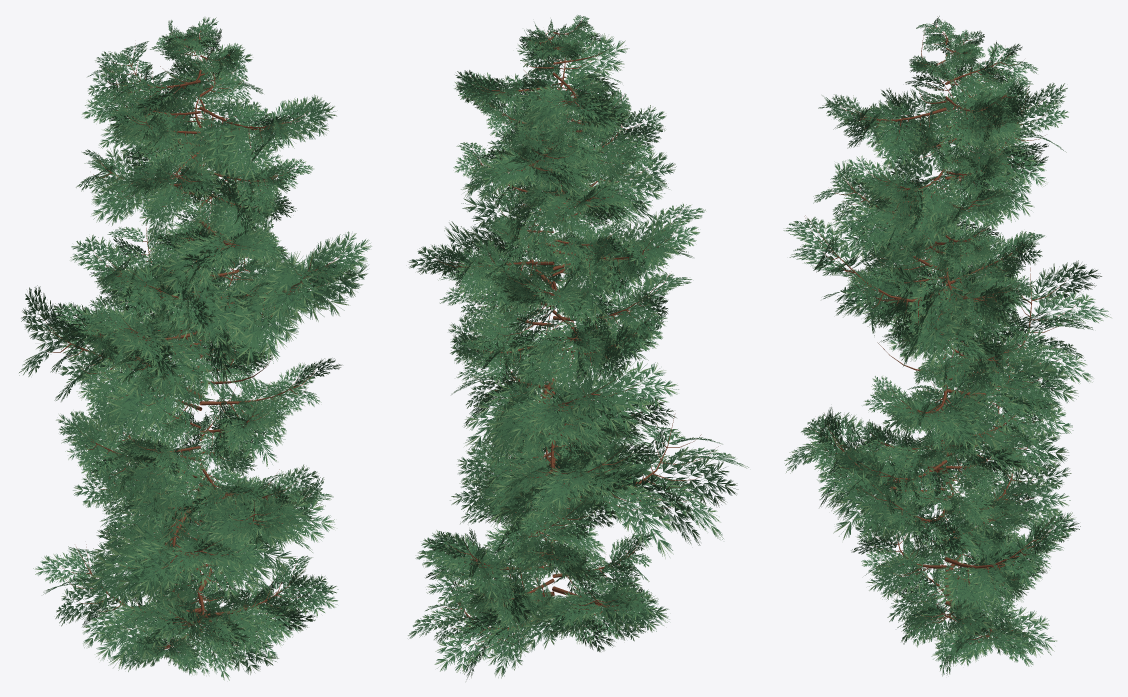
File: forest-pine-lod0.meshopt.glb
The picture shows the model from 3 angles, left to right: view 1: azimuth 30°, elevation 25°; view 2: azimuth 150°, elevation 25°; view 3: azimuth 270°, elevation 25°; orthographic projection. The views are drawn at different scales.
Parts seen in each view (by area): view 1: redwood-crown; view 2: redwood-crown; view 3: redwood-crown.
Part boxes in pixels (<box>): redwood-crown: <box>19,17,371,680</box>; redwood-crown: <box>408,15,748,679</box>; redwood-crown: <box>783,16,1111,676</box>.
Bounding box in the file's own units: 17.16 × 37.53 × 18.07.
Materials: 7 (3 with a texture image).
